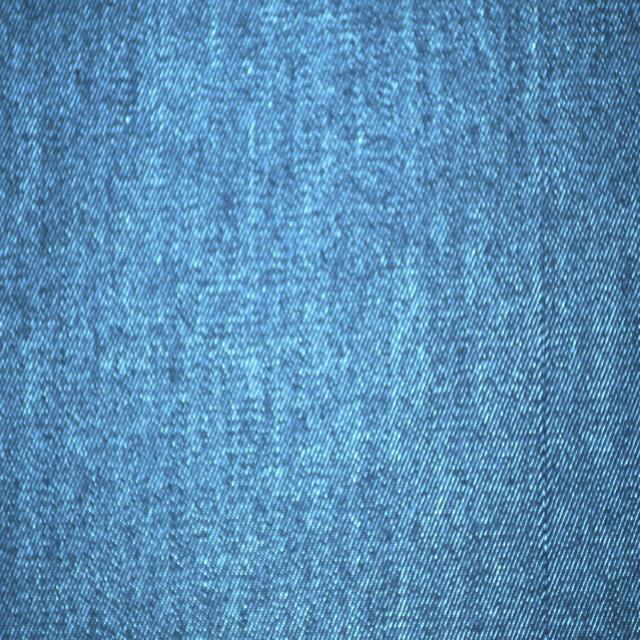defect: (540, 79, 548, 640)
